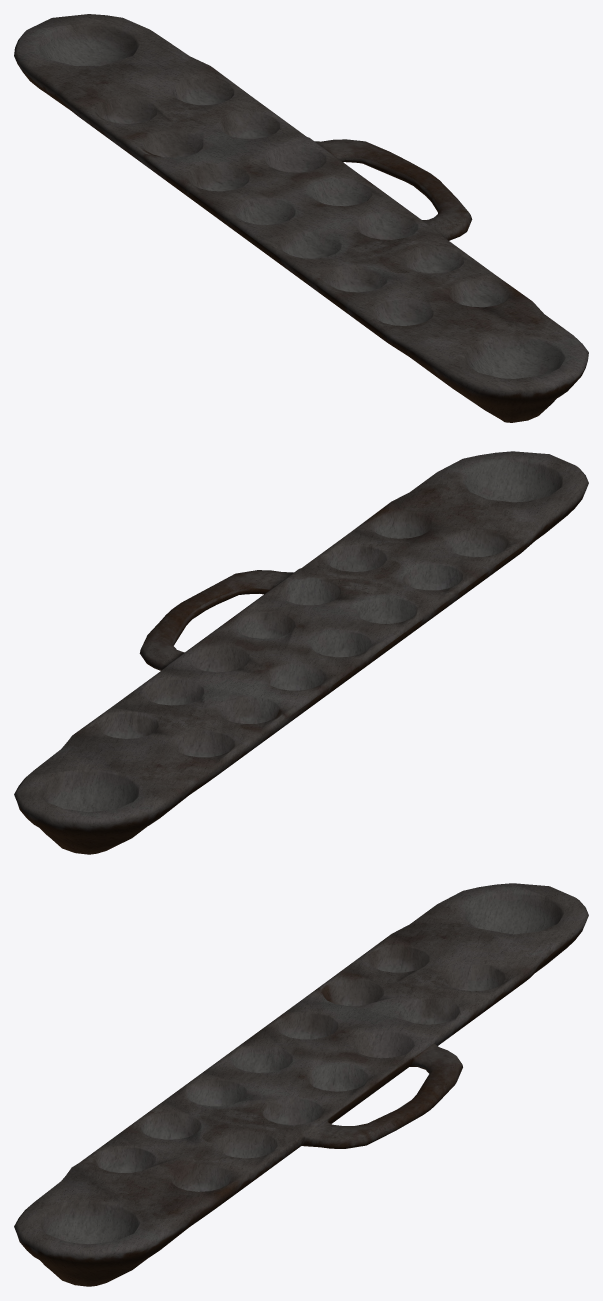
File: sungka_board.glb
The picture shows the model from 3 angles, top to bottom: view 1: azimuth 30°, elevation 25°; view 2: azimuth 150°, elevation 25°; view 3: azimuth 330°, elevation 25°; orthographic projection.
Visible parts, largest first — view 1: sungka_board; view 2: sungka_board; view 3: sungka_board.
Part boxes in pixels (x1=…): sungka_board: x1=14, y1=14, x2=588, y2=422; sungka_board: x1=14, y1=451, x2=588, y2=854; sungka_board: x1=14, y1=883, x2=588, y2=1286.
Bounding box in the file's own units: 0.14 × 0.0352 × 0.6006.
1 material, 1 textured.
